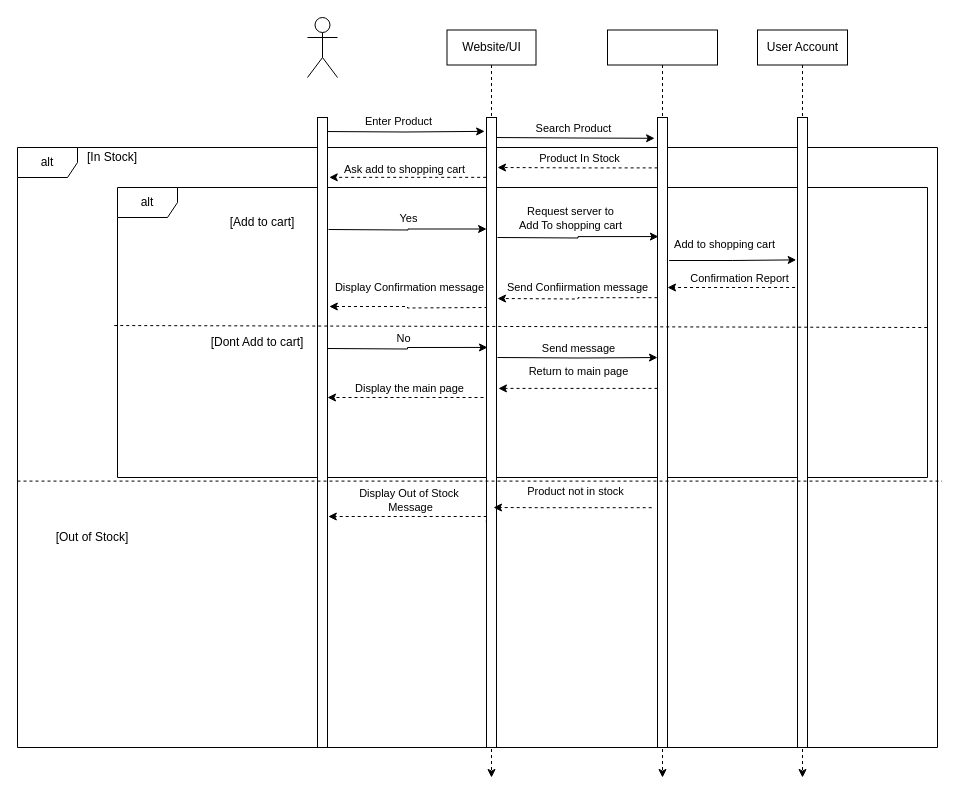
The diagram is 961 pixels wide and 803 high, and some of its shapes have lost their labels. The shapes that lost their labels are listed below. From the top down, each one's centre as x and y in pixels, then its label:
At pixel 322 47: "Buyer".
At pixel 662 47: "GreenHome Server".
